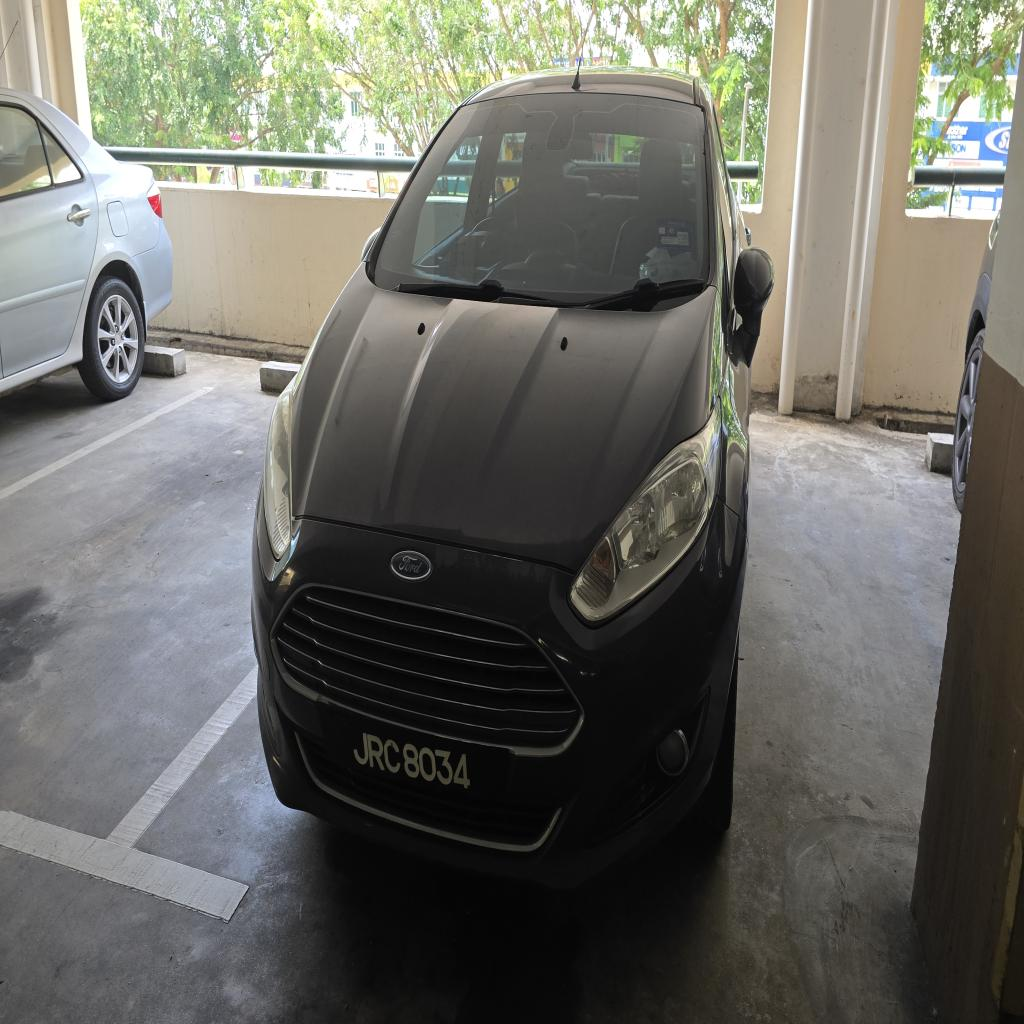car: (253, 70, 773, 884)
car plate: (322, 713, 510, 801)
